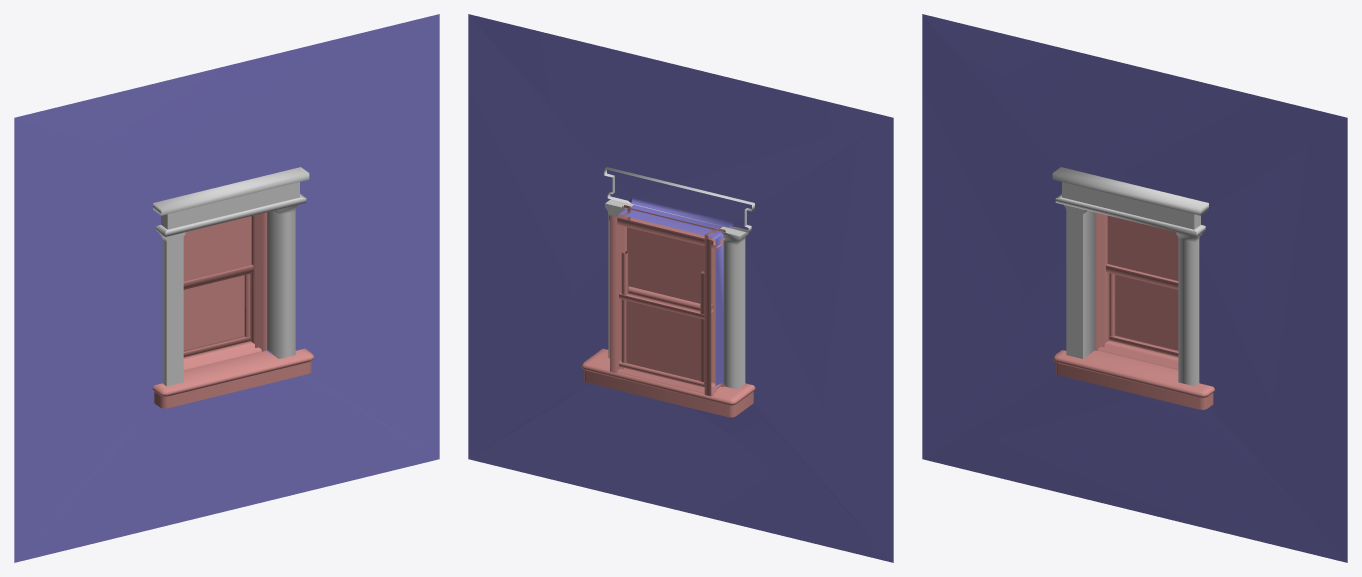
File: window_05.fbx
3 renders of one model, left to right at view 1: azimuth 30°, elevation 25°; view 2: azimuth 150°, elevation 25°; view 3: azimuth 330°, elevation 25°, orthographic.
Visible parts, largest first — view 1: Plane.024, Plane.023, Cube.038; view 2: Plane.024, Plane.023, Cube.038; view 3: Plane.024, Plane.023, Cube.038.
Part boxes in pixels (left/top/right/bottom): Plane.024: left=14, top=14, right=439, bottom=562; Plane.023: left=152, top=212, right=313, bottom=408; Cube.038: left=153, top=167, right=309, bottom=386; Plane.024: left=468, top=14, right=893, bottom=562; Plane.023: left=581, top=205, right=755, bottom=417; Cube.038: left=604, top=167, right=754, bottom=389; Plane.024: left=922, top=14, right=1347, bottom=562; Plane.023: left=1053, top=212, right=1214, bottom=409; Cube.038: left=1052, top=167, right=1208, bottom=386.
Size of the model in its own units: 4 by 4 by 0.5096.
